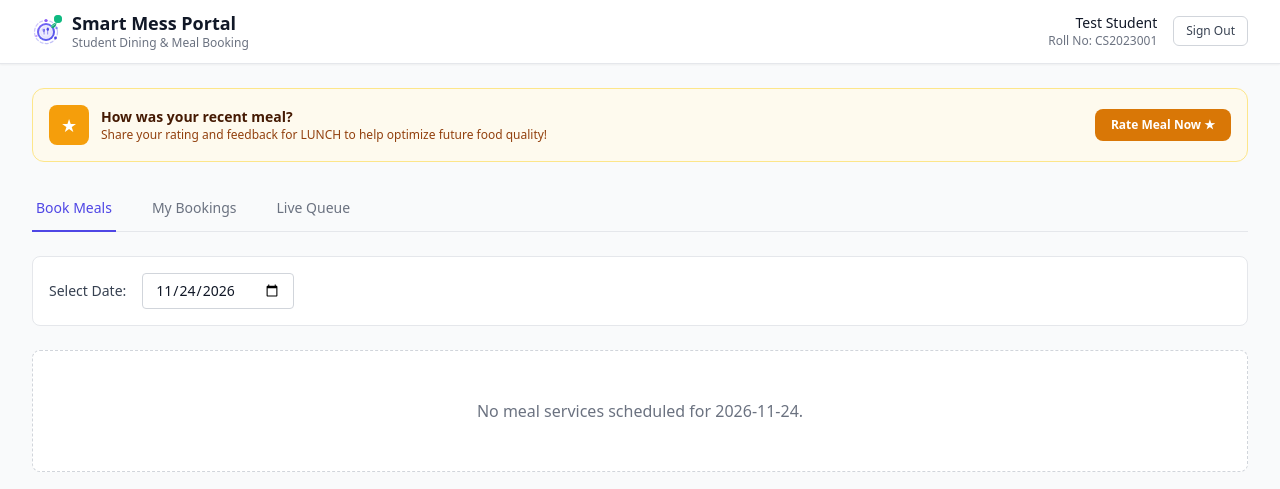
Test: Phase 6 Client — Student Feedback & Dashboards › Student Dashboard Feedback Integration › shows Rate Meal button on CHECKED_IN booking in My Bookings
The width and height of the screenshot is (1280, 489).
Click the button "My Bookings" at (194, 208), box [148,186,240,232]
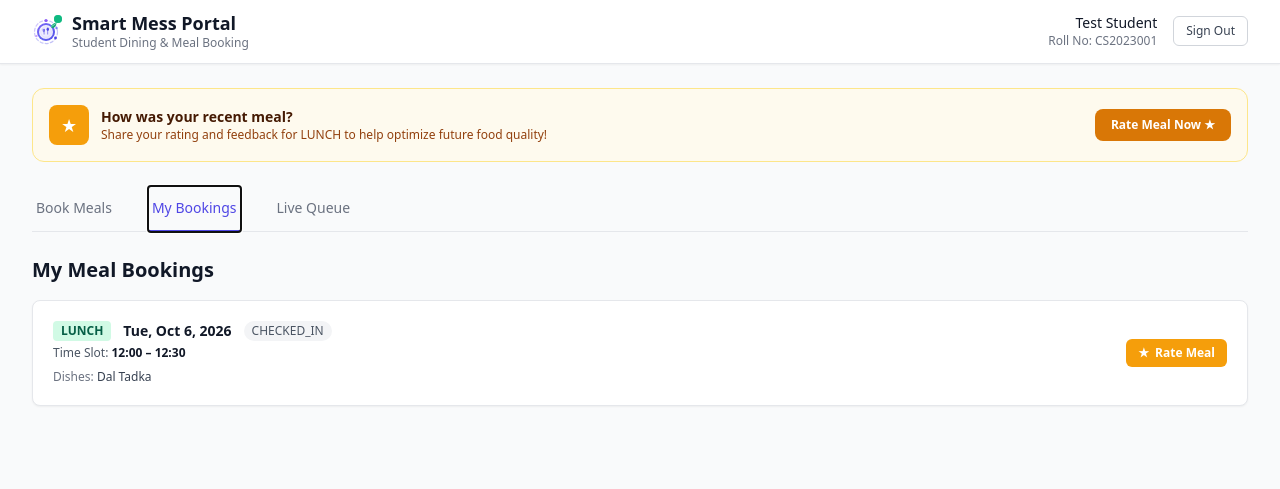
Check: the text "CHECKED_IN" is shown, box [244,320,332,340]
